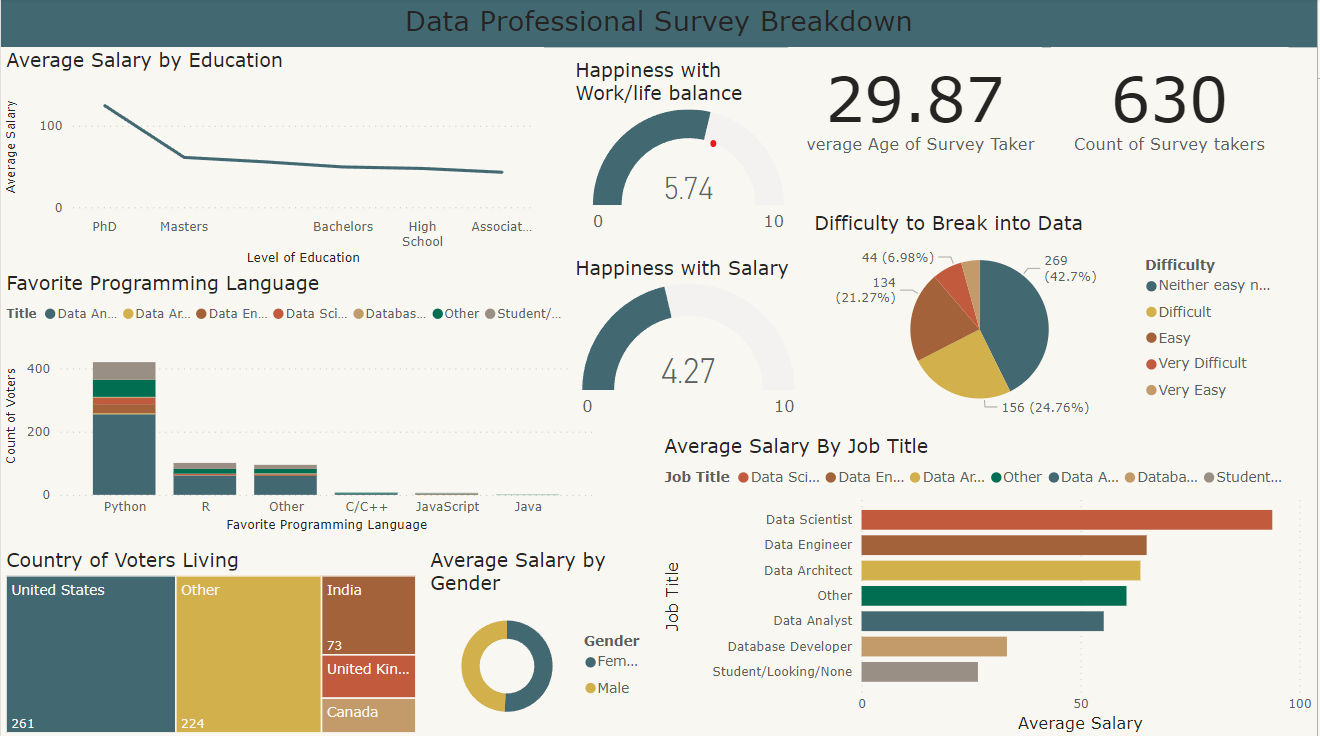

Layout of this report page (visuals, bound fields, positions):
{"tool":"powerbi","page":{"name":"Page 1","canvas":[1280,720],"ordinal":0},"visuals":[{"type":"textbox","box":[0,0,1280,47.6],"z":0},{"type":"card","fields":{"Values":["CountNonNull(Data Professional Survey.Unique ID)"]},"box":[616.2,303.3,230.8,114.2],"z":1},{"type":"card","fields":{"Values":["Avg(Data Professional Survey.Q10 - Current Age)"]},"box":[917.2,310.5,247.4,124.9],"z":2},{"type":"barChart","title":"Average Salary By Job Title","fields":{"Category":["Data Professional Survey.Q1 - Which Title Best Fits your Current Role?.1"],"Y":["Avg(Data Professional Survey.Average Salary)"],"Series":["Data Professional Survey.Q1 - Which Title Best Fits your Current Role?.1"]},"box":[650.7,441.3,629.3,278.4],"z":3},{"type":"columnChart","title":"Favorite Programming Language","fields":{"Category":["Data Professional Survey.Q5 - Favorite Programming Language.1"],"Y":["CountNonNull(Data Professional Survey.Unique ID)"],"Series":["Data Professional Survey.Q1 - Which Title Best Fits your Current Role?.1"]},"box":[0,252.2,580.5,241.5],"z":4},{"type":"treemap","title":"Country of Voters Living","fields":{"Group":["Data Professional Survey.Q11 - Which Country do you live in?.1"],"Values":["CountNonNull(Data Professional Survey.Q11 - Which Country do you live in?.1)"]},"box":[0,498.4,408,221.3],"z":5},{"type":"gauge","title":"Happiness with Work/life balance","fields":{"Y":["Avg(Data Professional Survey.Q6 - How Happy are you in your Current Position with the following? (Work/Life Balance))"],"MaxValue":["Max(Data Professional Survey.Q6 - How Happy are you in your Current Position with the following? (Work/Life Balance))"],"MinValue":["Min(Data Professional Survey.Q6 - How Happy are you in your Current Position with the following? (Work/Life Balance))"]},"box":[1049.2,47.6,230.8,117.8],"z":6},{"type":"gauge","title":"Happiness with Salary","fields":{"Y":["Avg(Data Professional Survey.Q6 - How Happy are you in your Current Position with the following? (Salary))"],"MinValue":["Min(Data Professional Survey.Q6 - How Happy are you in your Current Position with the following? (Salary))"],"MaxValue":["Max(Data Professional Survey.Q6 - How Happy are you in your Current Position with the following? (Salary))"]},"box":[1049.2,180.8,230.8,114.2],"z":7},{"type":"donutChart","title":"Average Salary by Gender","fields":{"Category":["Data Professional Survey.Q9 - Male/Female?"],"Y":["Avg(Data Professional Survey.Average Salary)"]},"box":[408,498.4,237.9,216.5],"z":8},{"type":"pieChart","title":"Difficulty to Break into Data","fields":{"Category":["Data Professional Survey.Q7 - How difficult was it for you to break into Data?"],"Y":["CountNonNull(Data Professional Survey.Q7 - How difficult was it for you to break into Data?)"]},"box":[532.9,47.6,471.1,239.1],"z":9},{"type":"lineChart","title":"Average Salary by Education","fields":{"Category":["Data Professional Survey.Q12 - Highest Level of Education"],"Y":["Avg(Data Professional Survey.Average Salary)"]},"box":[0,47.6,528.2,204.6],"z":10}]}

Visuals, with their boxes in screenshot pixels (x1, y1, x2, y2), scaled from the page's 1280x720 canvas onto the 1320x736 screenshot:
textbox: {"x1": 0, "y1": 0, "x2": 1319, "y2": 49}
card - CountNonNull(Data Professional Survey.Unique ID): {"x1": 635, "y1": 310, "x2": 873, "y2": 427}
card - Avg(Data Professional Survey.Q10 - Current Age): {"x1": 946, "y1": 317, "x2": 1201, "y2": 445}
"Average Salary By Job Title" barChart: {"x1": 671, "y1": 451, "x2": 1319, "y2": 735}
"Favorite Programming Language" columnChart: {"x1": 0, "y1": 258, "x2": 599, "y2": 505}
"Country of Voters Living" treemap: {"x1": 0, "y1": 509, "x2": 421, "y2": 735}
"Happiness with Work/life balance" gauge: {"x1": 1082, "y1": 49, "x2": 1319, "y2": 169}
"Happiness with Salary" gauge: {"x1": 1082, "y1": 185, "x2": 1319, "y2": 302}
"Average Salary by Gender" donutChart: {"x1": 421, "y1": 509, "x2": 666, "y2": 731}
"Difficulty to Break into Data" pieChart: {"x1": 550, "y1": 49, "x2": 1035, "y2": 293}
"Average Salary by Education" lineChart: {"x1": 0, "y1": 49, "x2": 545, "y2": 258}
